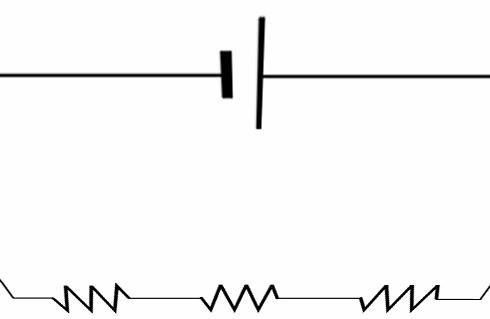resistor: (184, 274, 288, 317), (341, 277, 440, 317), (43, 278, 144, 314)
